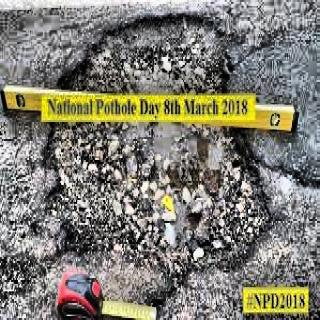pothole: (41, 126, 275, 292), (57, 6, 233, 92)
